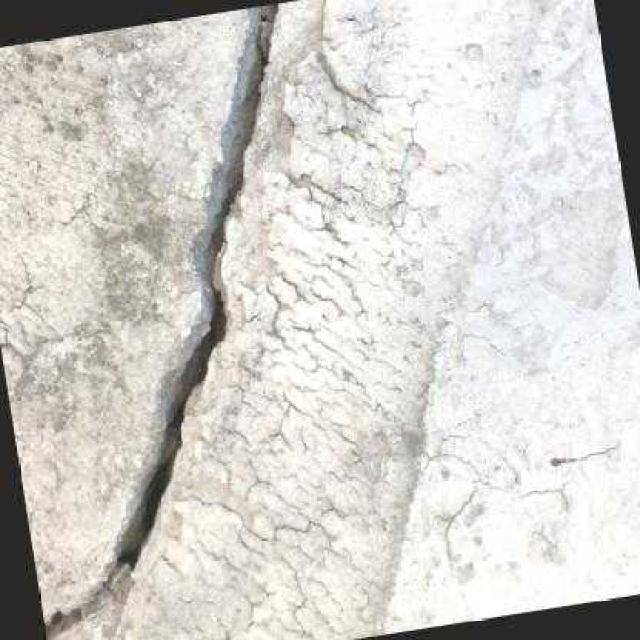D00: (43, 2, 281, 640)
